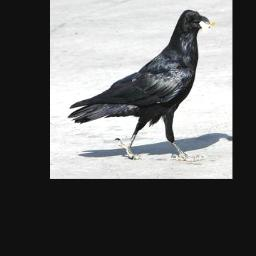Crow: (66, 9, 214, 163)
